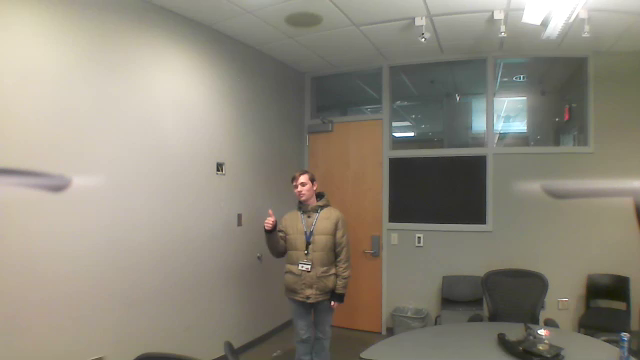up: (260, 206, 279, 231)
